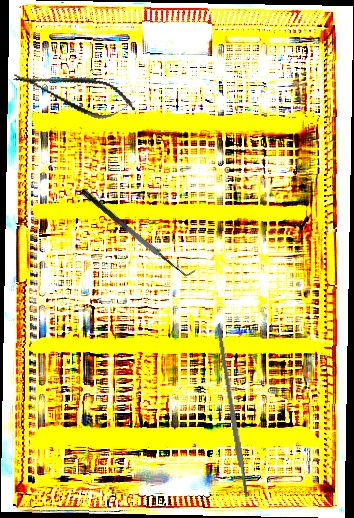Micro Scissor: (9, 56, 140, 128)
Scalpel Handle: (214, 323, 250, 498)
Spatula Surgical: (78, 178, 197, 285)
